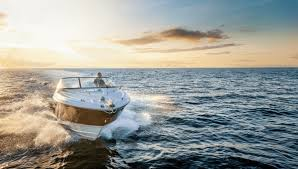boat: (51, 73, 132, 126)
